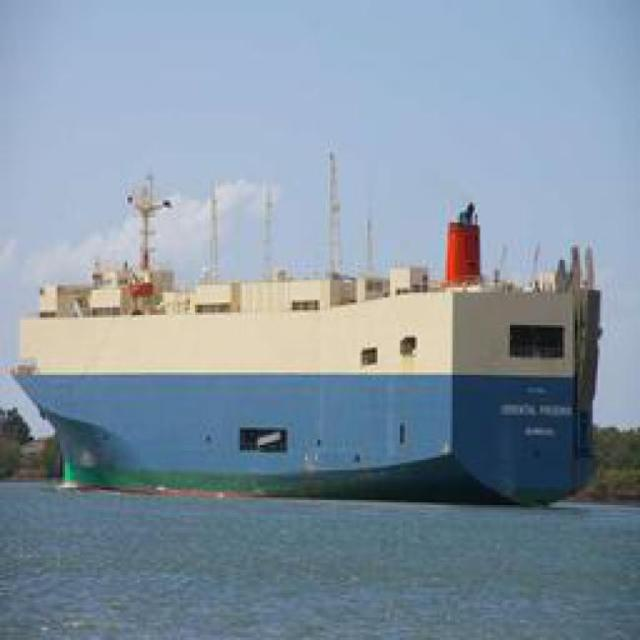boat: (12, 236, 604, 506)
